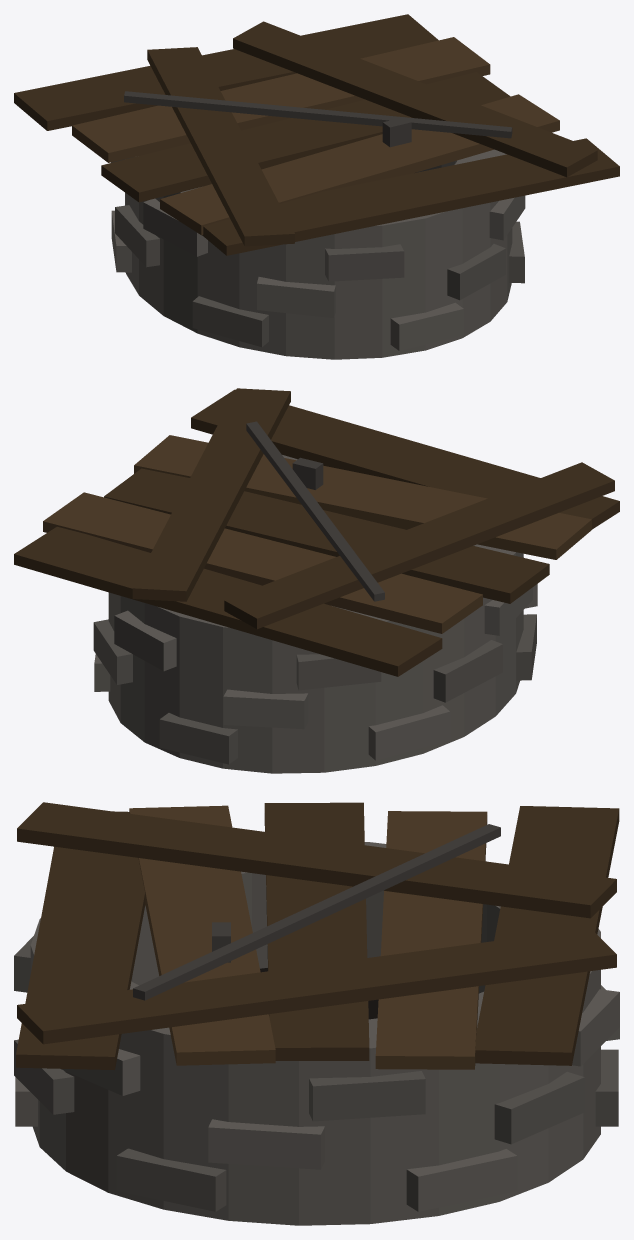
File: cinder-boarded-well.glb
3 views of the same model, one above another, from view 1: azimuth 30°, elevation 25°; view 2: azimuth 150°, elevation 25°; view 3: azimuth 270°, elevation 25° (orthographic). The views are drawn at different scales.
Parts seen in each view (by area): view 1: Body_WoodDark, Body_Stone, Body_Wood, Body_StoneDark, Body_Iron; view 2: Body_WoodDark, Body_Stone, Body_Wood, Body_StoneDark, Body_Iron; view 3: Body_WoodDark, Body_Stone, Body_Wood, Body_StoneDark, Body_Iron.
Part boxes in pixels (x1=…): Body_WoodDark: x1=14, y1=14, x2=619, y2=255; Body_Stone: x1=111, y1=149, x2=525, y2=359; Body_Wood: x1=72, y1=37, x2=559, y2=235; Body_StoneDark: x1=111, y1=159, x2=524, y2=347; Body_Iron: x1=124, y1=91, x2=512, y2=147; Body_WoodDark: x1=14, y1=388, x2=619, y2=676; Body_Stone: x1=94, y1=455, x2=537, y2=773; Body_Wood: x1=43, y1=435, x2=591, y2=633; Body_StoneDark: x1=93, y1=614, x2=536, y2=764; Body_Iron: x1=246, y1=421, x2=384, y2=601; Body_WoodDark: x1=16, y1=802, x2=619, y2=1070; Body_Stone: x1=15, y1=842, x2=619, y2=1225; Body_Wood: x1=129, y1=805, x2=487, y2=1069; Body_StoneDark: x1=14, y1=936, x2=618, y2=1211; Body_Iron: x1=133, y1=824, x2=500, y2=1000.
Size of the model in its own units: 4 by 1.6 by 4.
